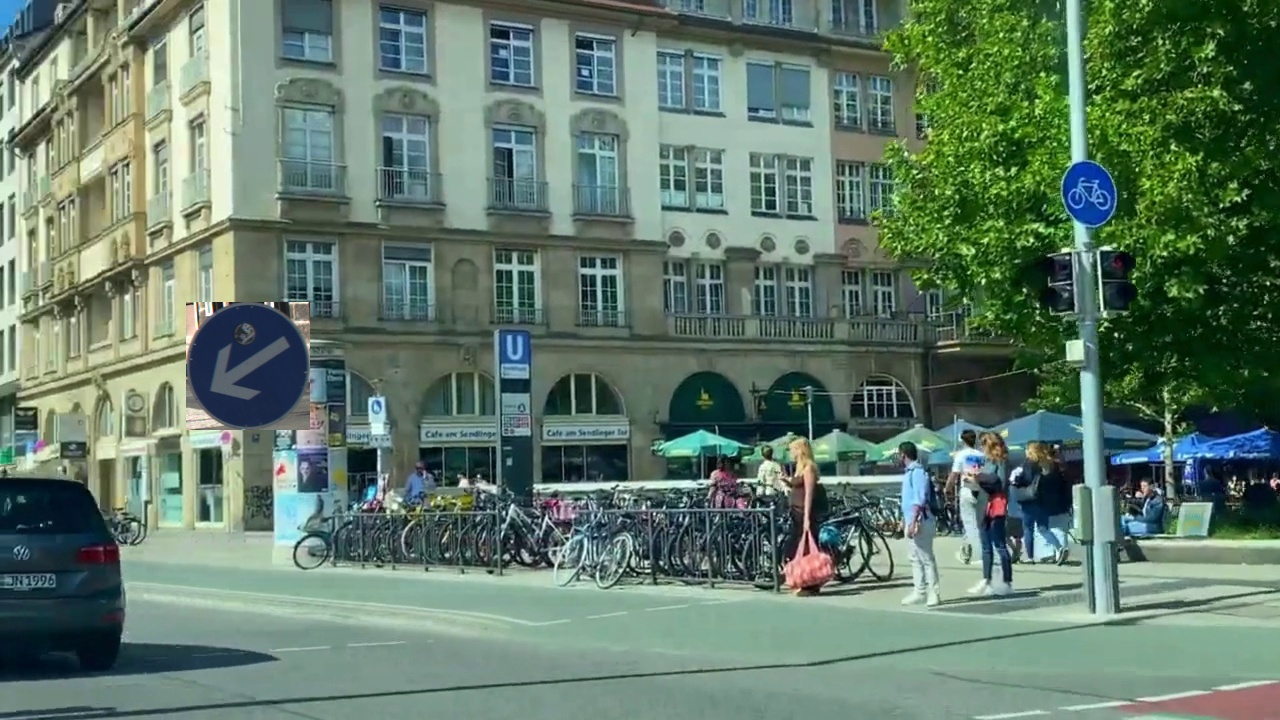Keep left: (186, 302, 310, 430)
